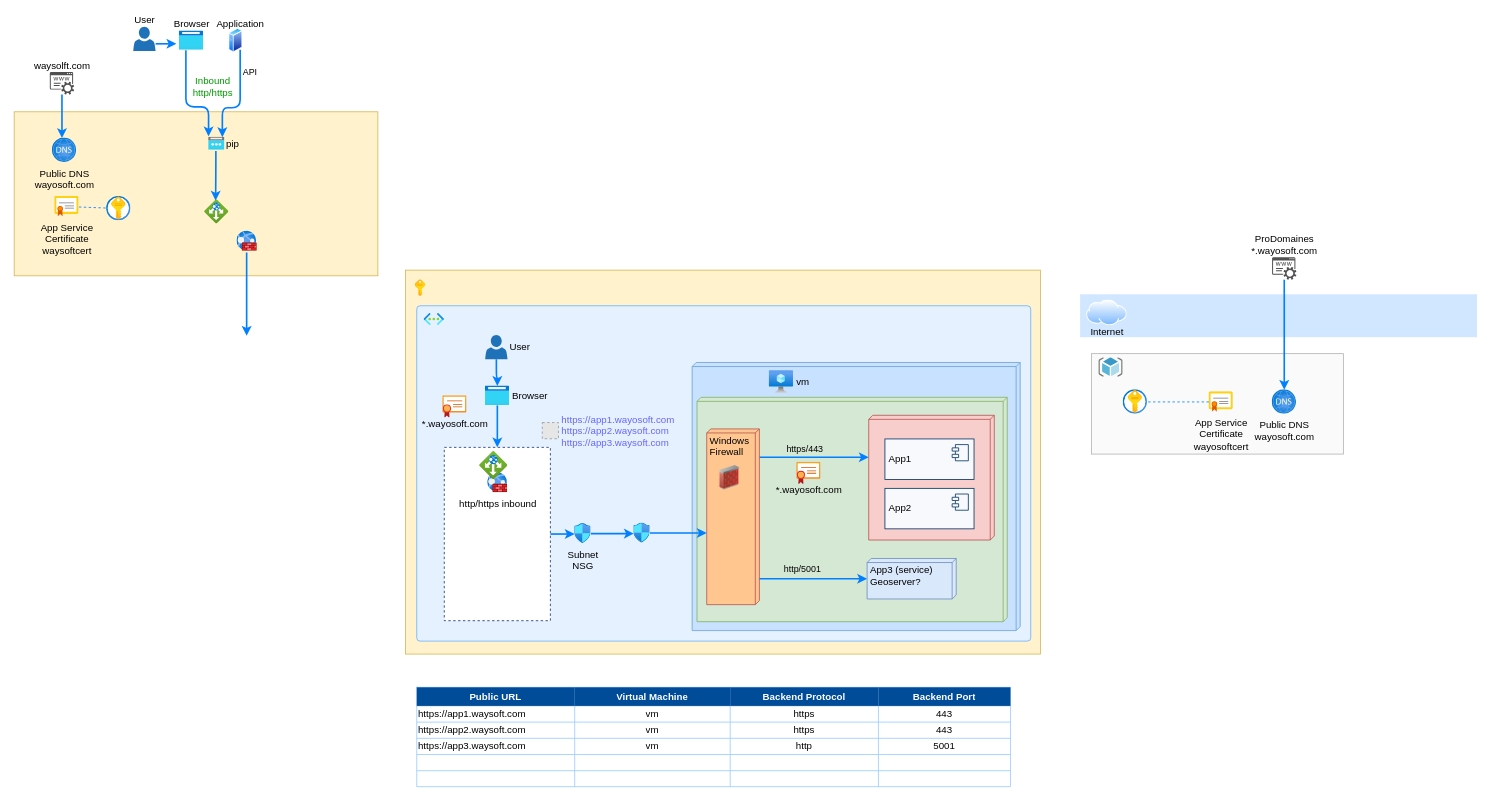
Image size: 1491x802. Some labels were removed from this diagram. Grey dashed boxes stand in for pictures. The shapes that lost their labels are listed below. From the top down, each one's box as (x1, y1, x2, y2) in pixels, then its label:
(106, 196, 130, 220): kv-xops- prod-ne
(204, 199, 228, 223): Application Gateway agw-hub-prod-ne
(237, 231, 257, 251): Web App Firewall (Waf)
(415, 279, 425, 296): DS SESWAYOSANDBOX DEV IS 01 ( Sandbox IS )
(424, 313, 444, 325): vnet
(1098, 357, 1123, 377): rg-network-xops-dev-ne
(1123, 389, 1147, 414): kv-xops- dev-ne
(691, 362, 1020, 631): « device » VM
(868, 414, 994, 540): « web server » IIS
(696, 396, 1007, 622): « OS » Windows Server
(443, 447, 550, 621): Sandbox Hub
(633, 522, 650, 543): VM NSG
